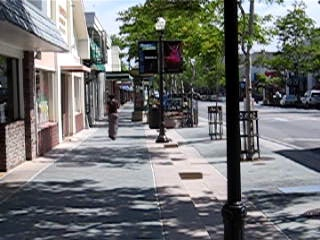person: (108, 94, 121, 142), (107, 94, 120, 142), (109, 94, 122, 142), (108, 93, 121, 141), (108, 95, 121, 143)
target_negative: (75, 196, 197, 240), (15, 191, 151, 221), (60, 223, 265, 240), (246, 20, 257, 240), (315, 47, 320, 49)
